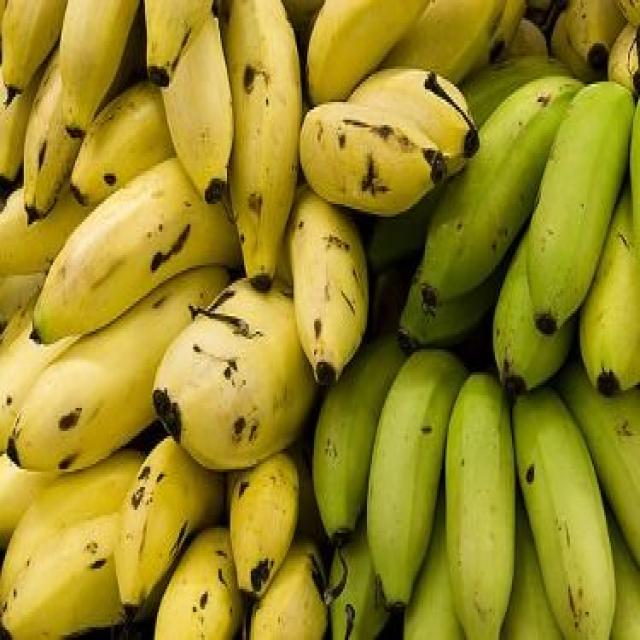banana_peel: (7, 131, 280, 365), (5, 257, 247, 490), (398, 61, 600, 327), (126, 272, 317, 511), (352, 343, 481, 626), (510, 385, 627, 637), (94, 419, 232, 630), (219, 2, 315, 296), (430, 366, 534, 634), (274, 167, 379, 430), (300, 0, 446, 137), (52, 0, 150, 162)
